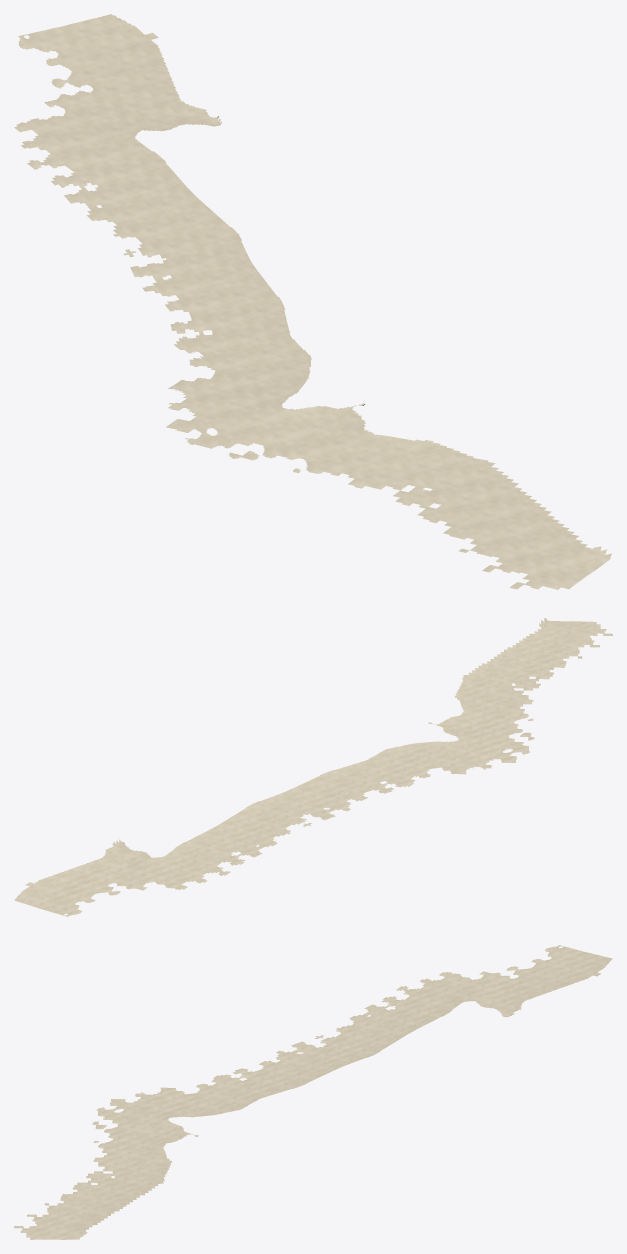
Rendered from ArahaTerrain_SandUnder.gltf.
3 renders of one model, top to bottom at view 1: azimuth 30°, elevation 25°; view 2: azimuth 150°, elevation 25°; view 3: azimuth 330°, elevation 25°, orthographic. The views are drawn at different scales.
Visible parts, largest first — view 1: ArahaTerrain_SandUnder; view 2: ArahaTerrain_SandUnder; view 3: ArahaTerrain_SandUnder.
Boxes of the visible parts, left/top/right/bottom form: ArahaTerrain_SandUnder: left=14, top=14, right=611, bottom=589; ArahaTerrain_SandUnder: left=14, top=618, right=612, bottom=916; ArahaTerrain_SandUnder: left=14, top=945, right=612, bottom=1239.
Bounding box in the file's own units: 409 × 5.75 × 1274.
Materials: 1 (1 with a texture image).
